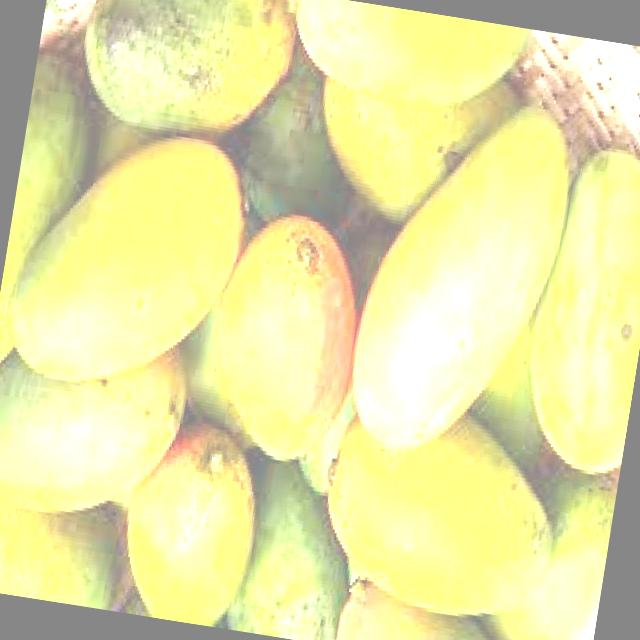Mango: (342, 87, 582, 466), (0, 120, 255, 408), (306, 409, 572, 631), (201, 210, 370, 468), (0, 324, 196, 535), (519, 137, 640, 478), (0, 48, 109, 389), (69, 0, 302, 155), (112, 422, 268, 632), (285, 0, 534, 118), (332, 580, 531, 640)
